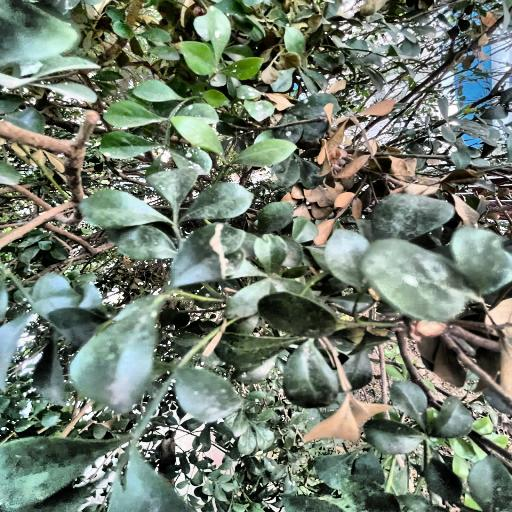la heo: (308, 105, 442, 203)
la xanh: (64, 146, 306, 391)
